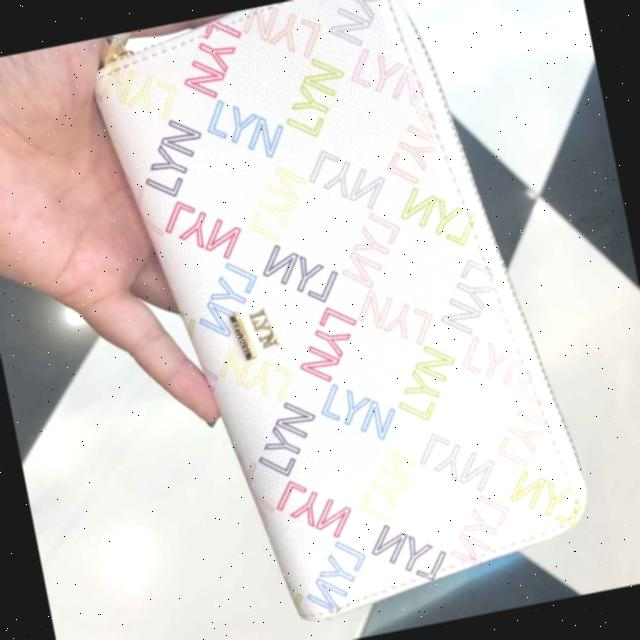handbag: (83, 0, 621, 640)
